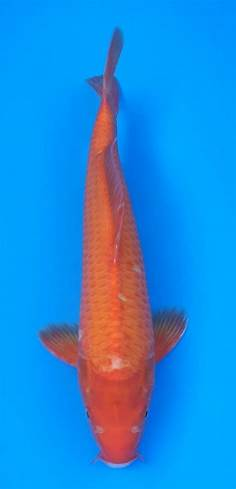red: (39, 26, 188, 468)
